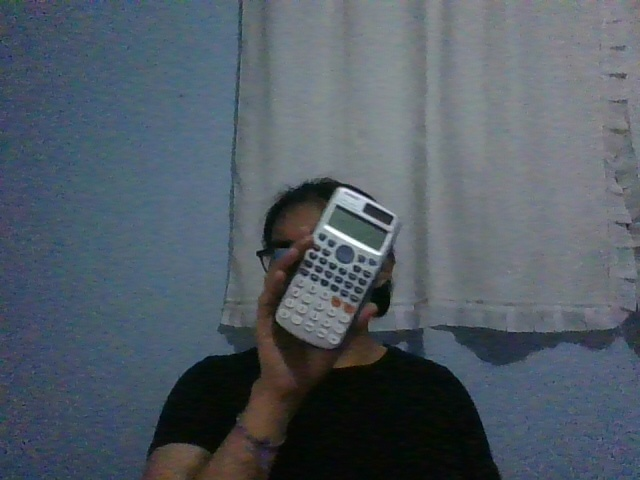calculadora: (272, 186, 400, 352)
